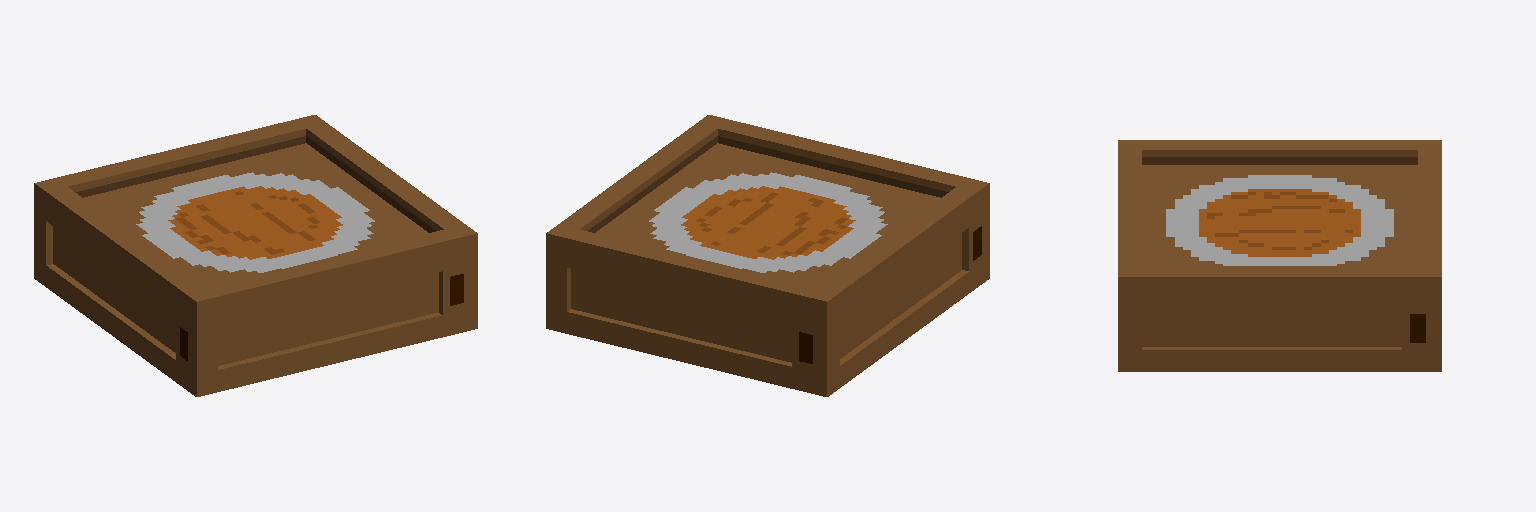
3 views of the same model, side by side, from view 1: azimuth 30°, elevation 25°; view 2: azimuth 150°, elevation 25°; view 3: azimuth 270°, elevation 25° (orthographic).
Visible parts, largest first — view 1: object 1; view 2: object 1; view 3: object 1.
Part boxes in pixels (x1,y1,x2,y2): object 1: (34, 115, 477, 396); object 1: (546, 115, 989, 396); object 1: (1118, 140, 1441, 371).
Bounding box in the file's own units: 4 × 1.3 × 4.
Materials: 1 (1 with a texture image).